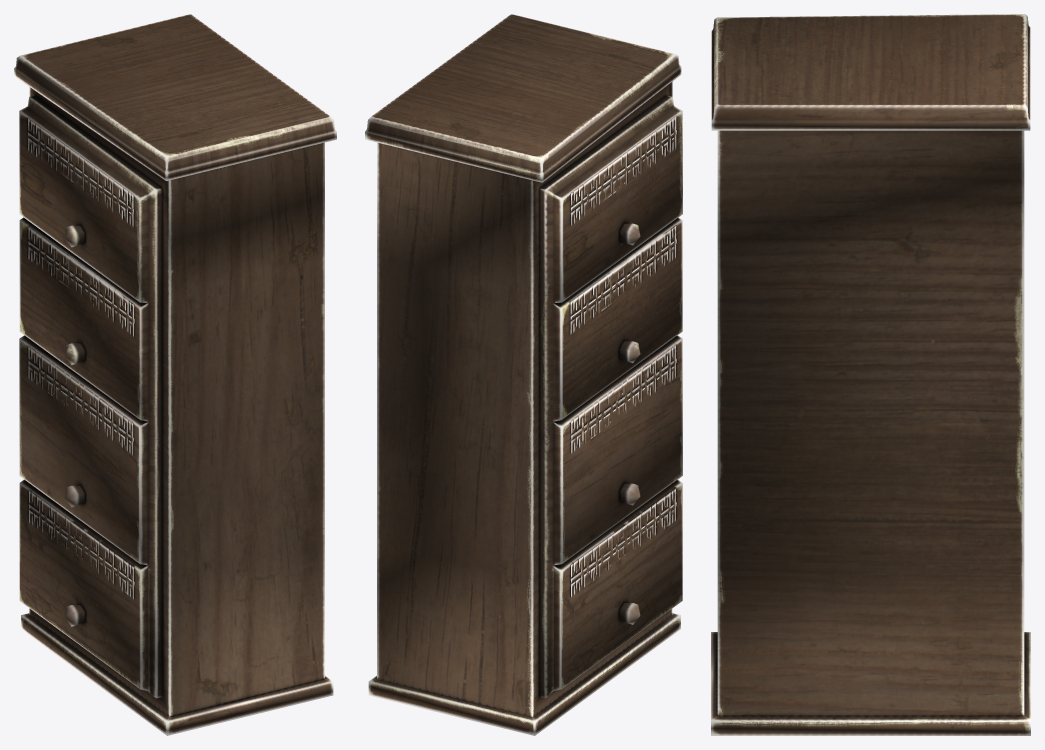
The model's file is ormar.fbx.
3 renders of one model, left to right at view 1: azimuth 30°, elevation 25°; view 2: azimuth 150°, elevation 25°; view 3: azimuth 270°, elevation 25°, orthographic. The views are drawn at different scales.
Visible parts, largest first — view 1: polymsh3; view 2: polymsh3; view 3: polymsh3.
Part boxes in pixels (x1,y1,x2,y2): polymsh3: [14, 14, 336, 735]; polymsh3: [365, 14, 682, 735]; polymsh3: [711, 14, 1030, 735].
Size of the model in its own units: 0.247 by 0.6759 by 0.3107.
